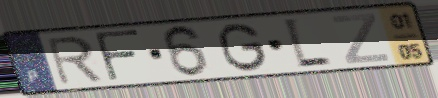6: (161, 23, 214, 81)
F: (91, 28, 144, 84)
G: (217, 21, 271, 74)
L: (279, 16, 335, 72)
R: (43, 34, 106, 87)
Z: (329, 12, 392, 66)
